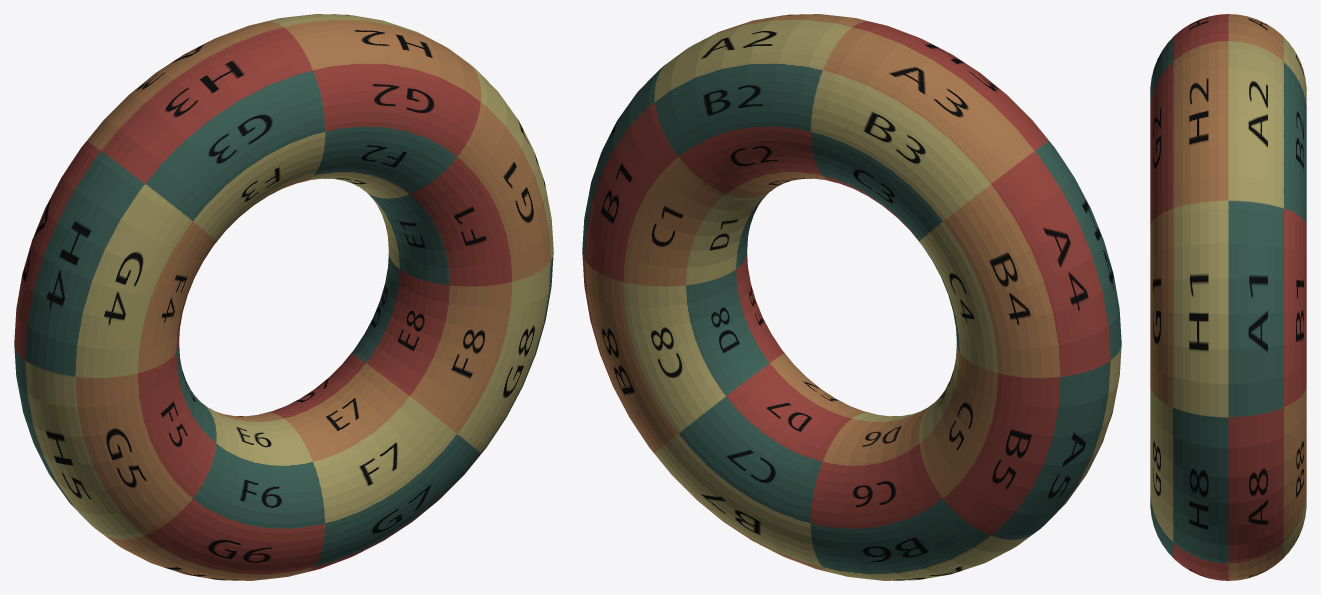
Rendered from texture_torus_R17_r23.glb.
3 views of the same model, side by side, from view 1: azimuth 30°, elevation 25°; view 2: azimuth 150°, elevation 25°; view 3: azimuth 270°, elevation 25° (orthographic). The views are drawn at different scales.
Parts seen in each view (by area): view 1: world; view 2: world; view 3: world.
Boxes of the visible parts, x1,y1,x2,y2 form: world: (14,14,553,580); world: (582,14,1121,580); world: (1150,14,1306,580).
Bounding box in the file's own units: 29.47 × 29.41 × 8.12.
Materials: 1 (1 with a texture image).
